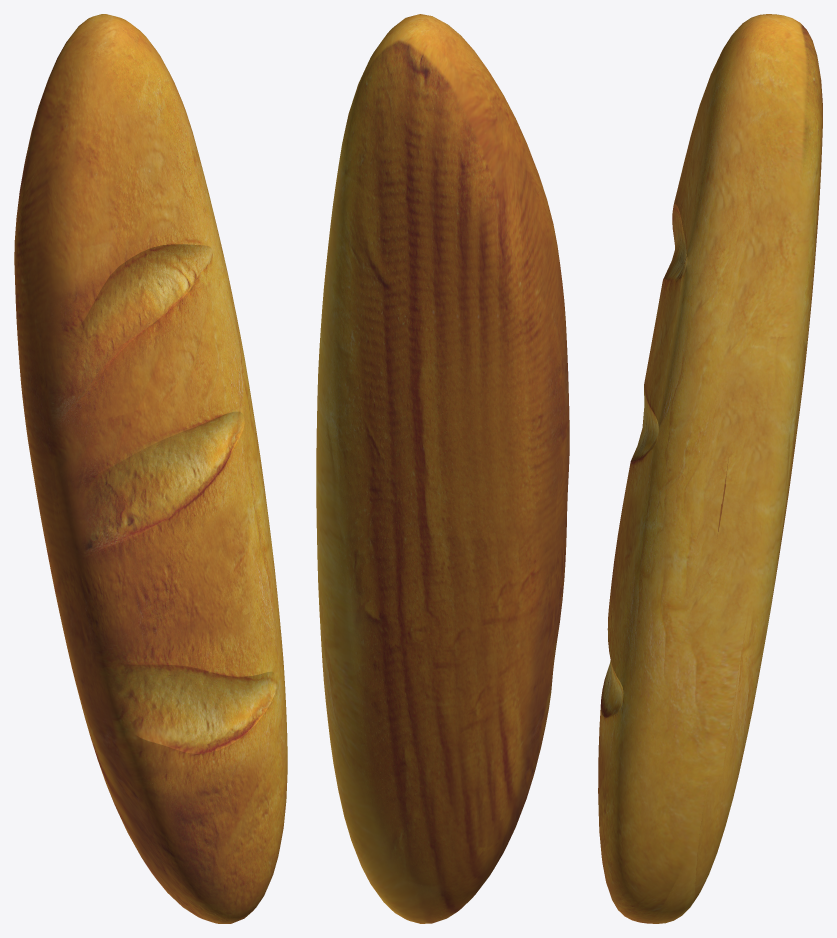
Rendered from bread2.fbx.
3 views of the same model, side by side, from view 1: azimuth 30°, elevation 25°; view 2: azimuth 150°, elevation 25°; view 3: azimuth 270°, elevation 25° (orthographic). The views are drawn at different scales.
Visible parts, largest first — view 1: Loaf; view 2: Loaf; view 3: Loaf.
Part boxes in pixels (bbox=[...]): Loaf: bbox=[14, 14, 287, 923]; Loaf: bbox=[316, 14, 569, 923]; Loaf: bbox=[598, 14, 822, 923].
Size of the model in its own units: 148 by 164 by 636.
1 material, 1 textured.
